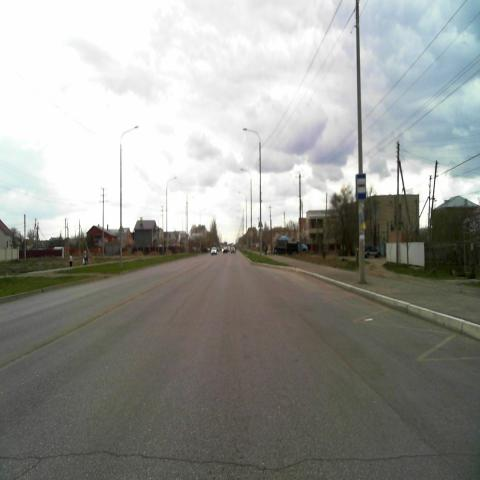5_16: (356, 174, 366, 199)
